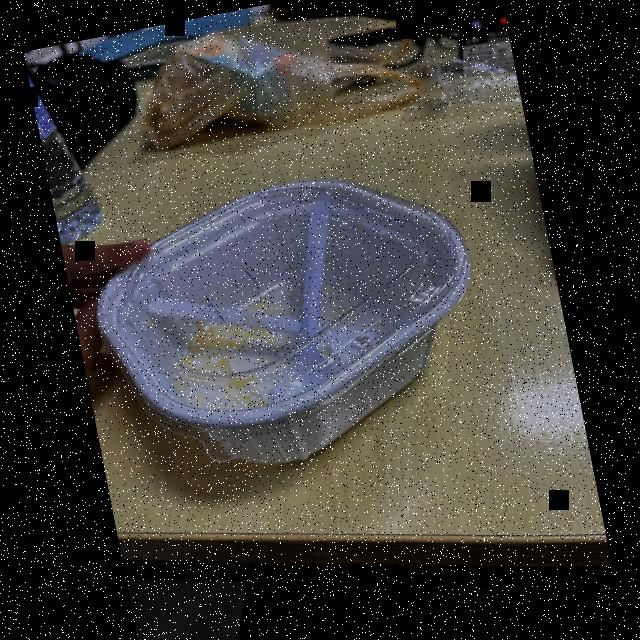plastic_box: (76, 149, 499, 493)
